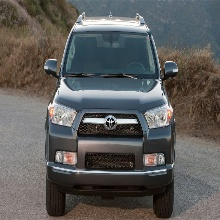no damage: (44, 13, 178, 218)
